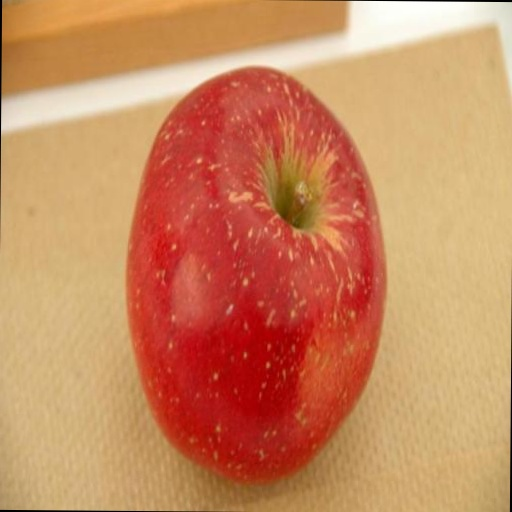fruit: (305, 164, 449, 512)
